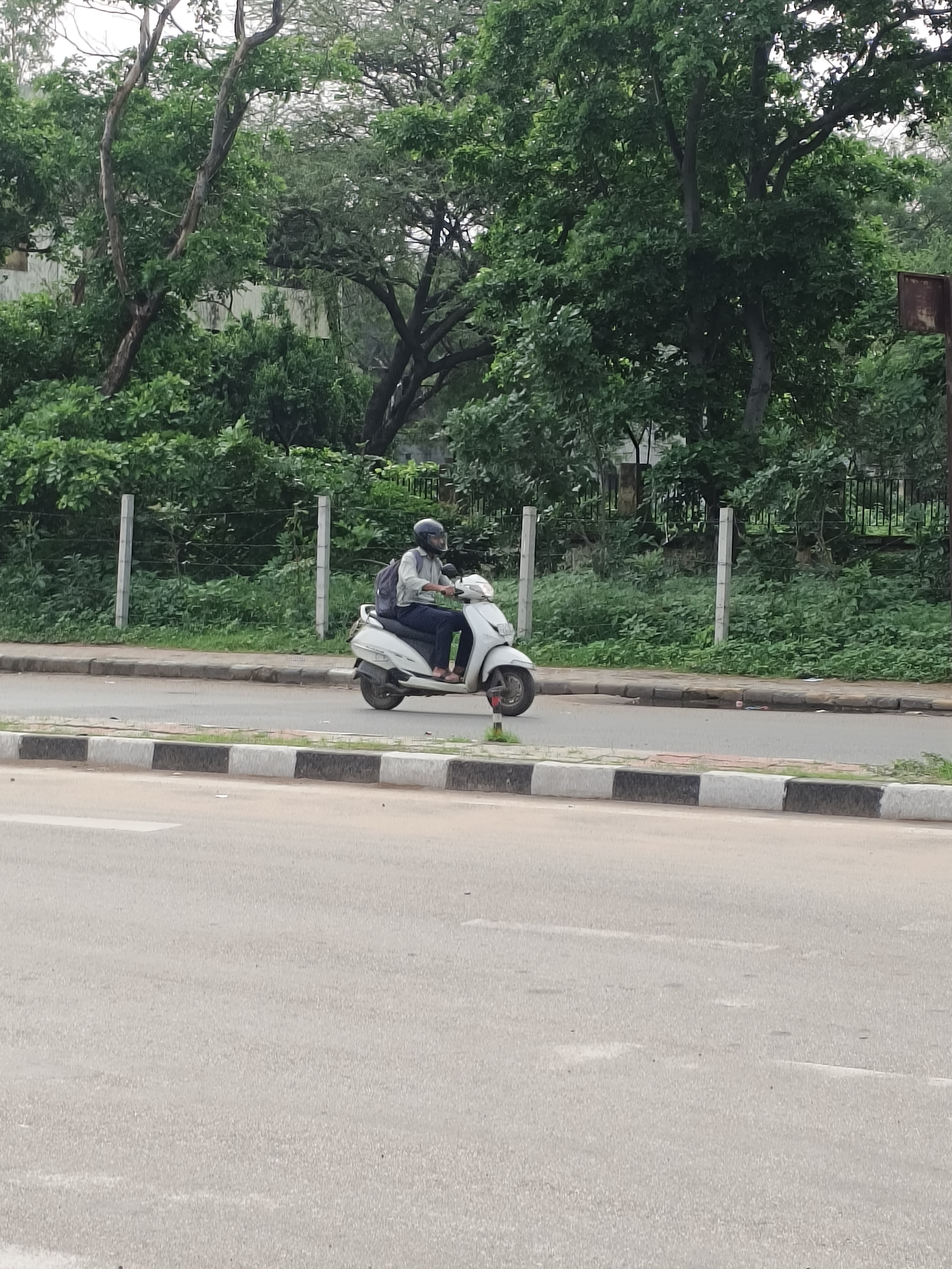BikeWithRider: (337, 512, 546, 723)
Helmet: (406, 513, 454, 560)
